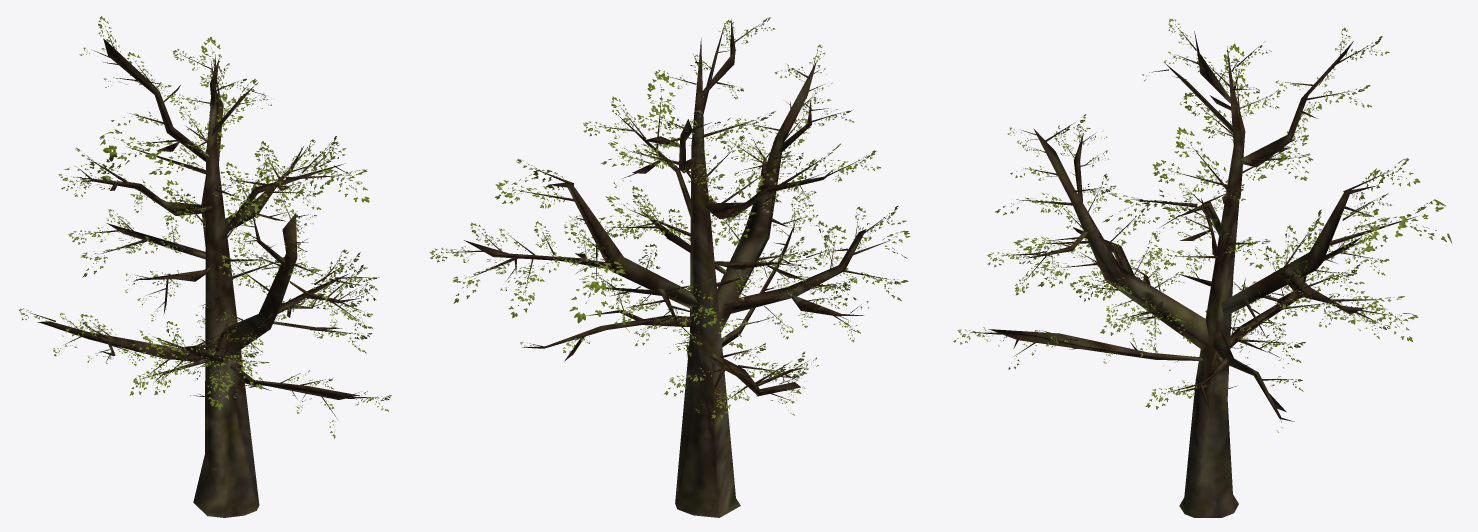
Rendered from Tree 2.FBX.
3 renders of one model, left to right at view 1: azimuth 30°, elevation 25°; view 2: azimuth 150°, elevation 25°; view 3: azimuth 270°, elevation 25°, orthographic. The views are drawn at different scales.
Visible parts, largest first — view 1: Tree 2; view 2: Tree 2; view 3: Tree 2.
Boxes of the visible parts, box(x1,y1,x2,y2) form: Tree 2: box(18, 16, 391, 517); Tree 2: box(429, 17, 910, 517); Tree 2: box(953, 19, 1451, 517).
Bounding box in the file's own units: 1544 × 1956 × 1945.
